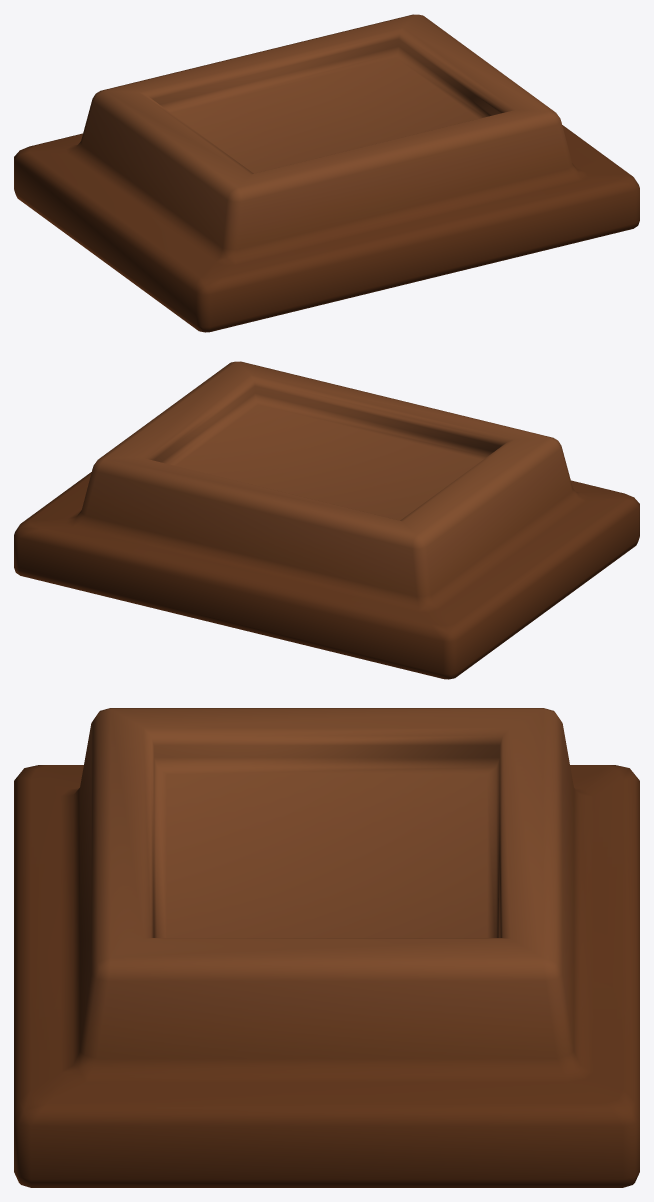
File: candy_choco_16.fbx
The picture shows the model from 3 angles, top to bottom: view 1: azimuth 30°, elevation 25°; view 2: azimuth 150°, elevation 25°; view 3: azimuth 270°, elevation 25°; orthographic projection. The views are drawn at different scales.
Visible parts, largest first — view 1: c_c_16; view 2: c_c_16; view 3: c_c_16.
Boxes of the visible parts, x1,y1,x2,y2 form: c_c_16: (14, 14, 639, 332); c_c_16: (14, 361, 639, 679); c_c_16: (14, 708, 639, 1187).
Bounding box in the file's own units: 149 × 36.29 × 111.
